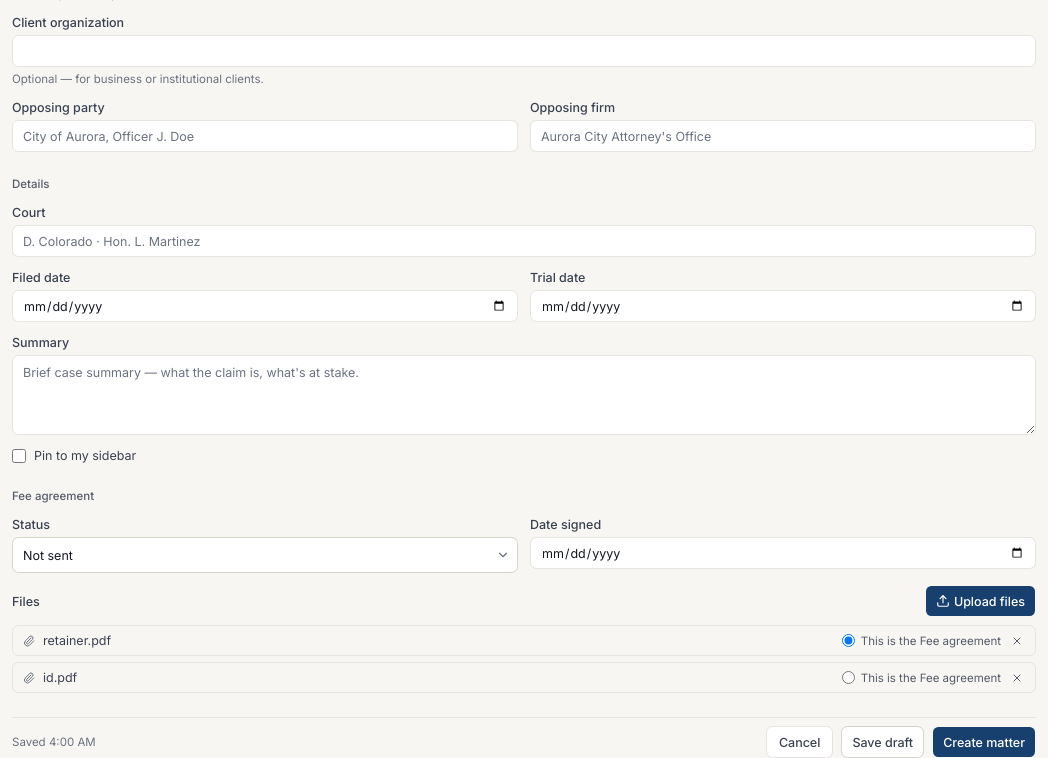
Test: NewMatterForm - Save draft › a failed save shows 'Couldn't save the draft. Try again.'
(page scrolled)
Click the button "Save draft": (883, 742) x1=841 y1=726 x2=924 y2=757
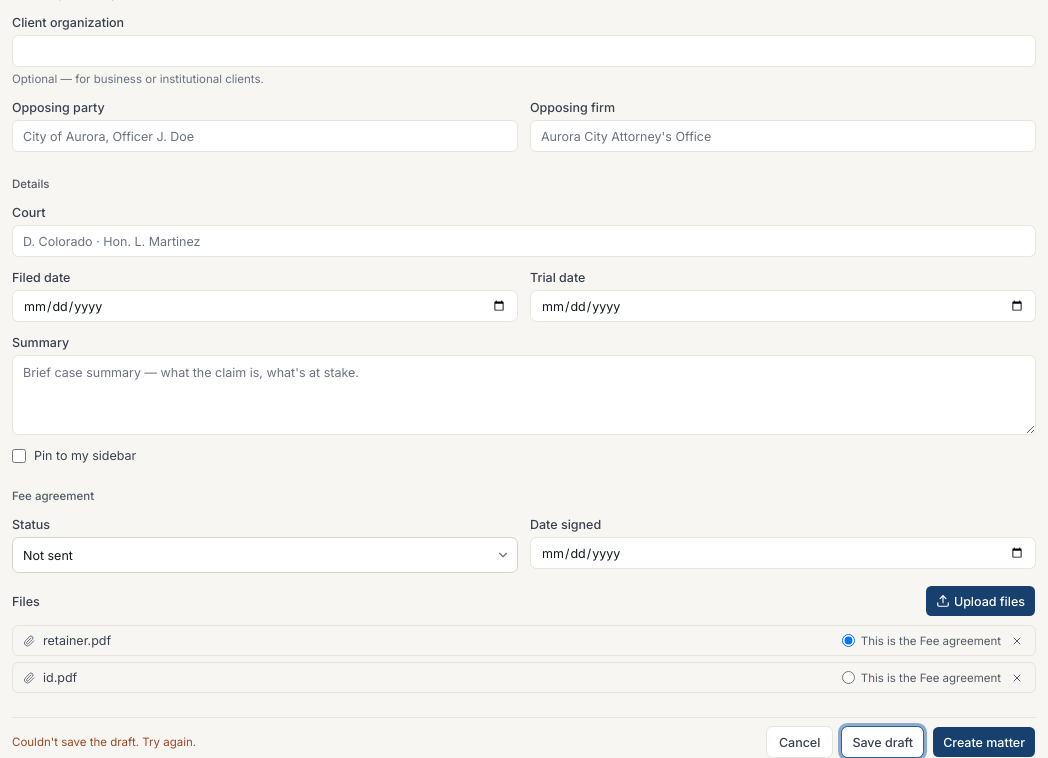
Now the text "Couldn't save the draft. Try again." is shown, box x1=12 y1=734 x2=196 y2=750
